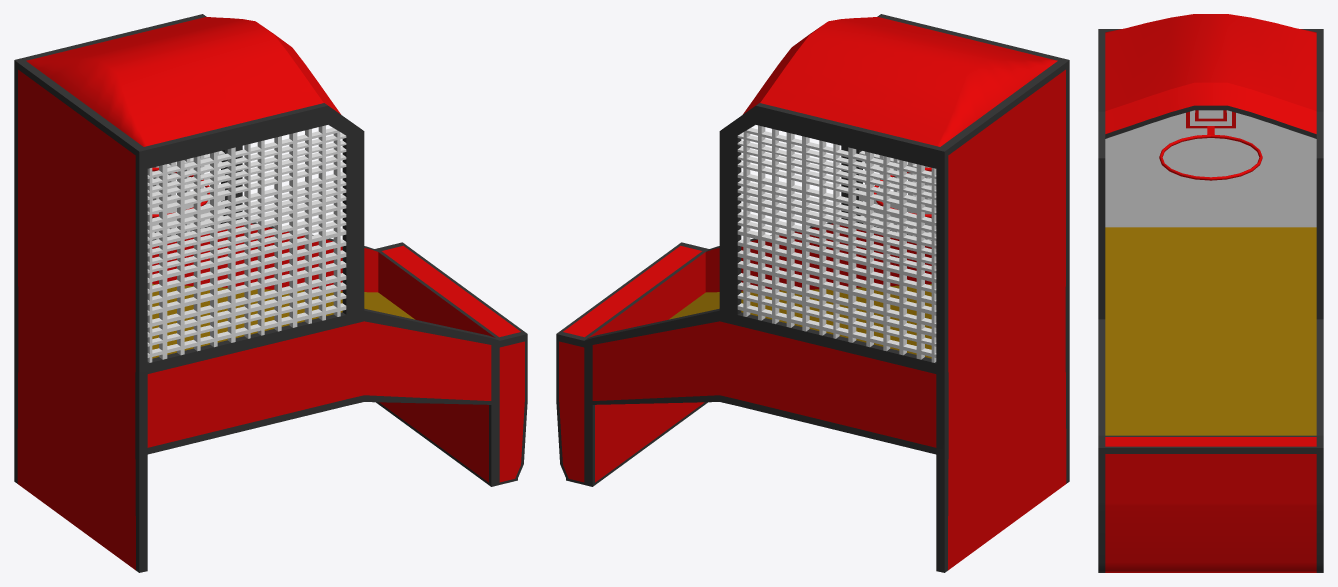
Rendered from arcade_basketball_machine.fbx.
3 renders of one model, left to right at view 1: azimuth 30°, elevation 25°; view 2: azimuth 150°, elevation 25°; view 3: azimuth 270°, elevation 25°, orthographic. The views are drawn at different scales.
Visible parts, largest first — view 1: mini_basketball_machine2; view 2: mini_basketball_machine2; view 3: mini_basketball_machine2.
Boxes of the visible parts, <box> form: mini_basketball_machine2: <box>14,14,527,572</box>; mini_basketball_machine2: <box>556,14,1069,572</box>; mini_basketball_machine2: <box>1098,14,1323,572</box>.
Bounding box in the file's own units: 21.79 × 24.3 × 12.18.
